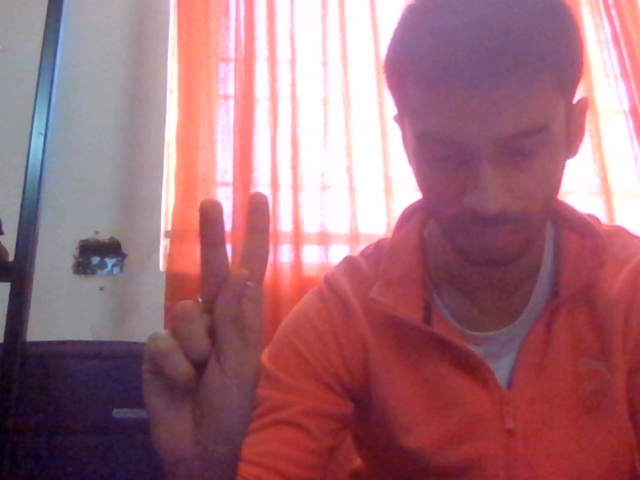K: (134, 178, 343, 480)
